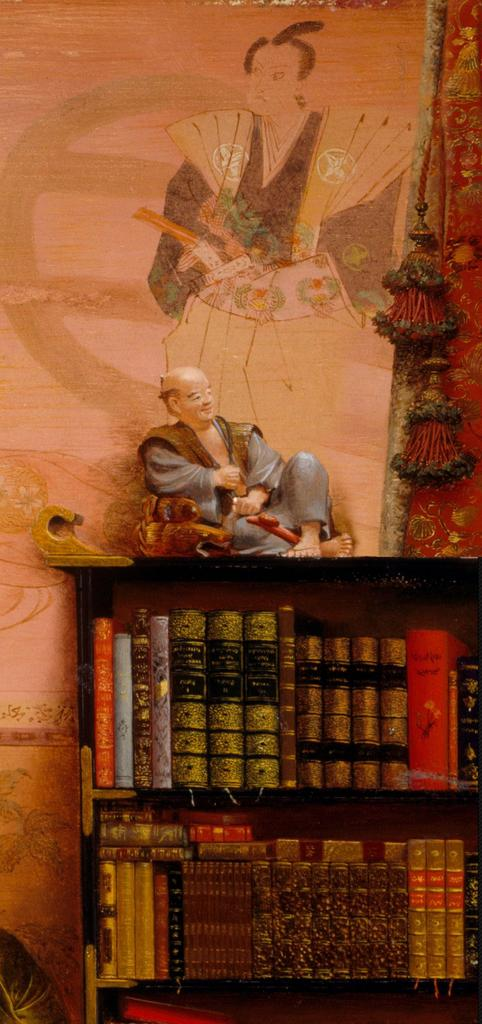Book: (97, 801, 481, 986), (97, 617, 478, 788), (175, 608, 208, 792), (129, 991, 245, 1023)
